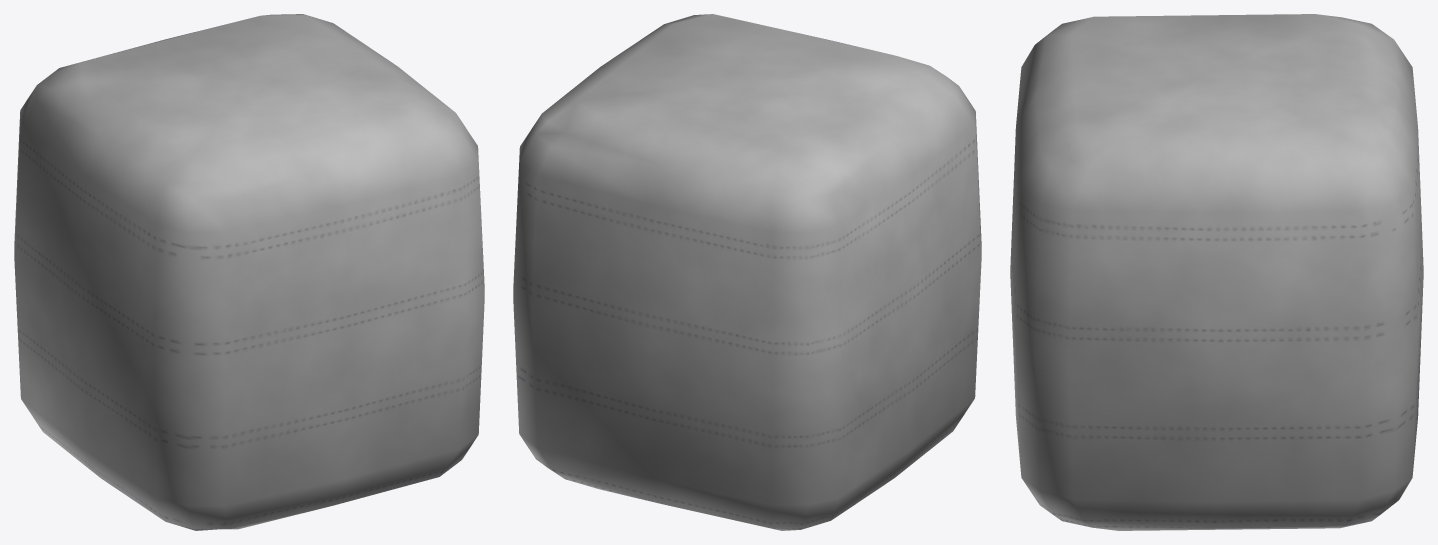
File: LeftUpperArm_C1.fbx
3 views of the same model, side by side, from view 1: azimuth 30°, elevation 25°; view 2: azimuth 150°, elevation 25°; view 3: azimuth 270°, elevation 25° (orthographic). The views are drawn at different scales.
Parts seen in each view (by area): view 1: Civ_CamperaJean_LeftUpperArm_C1; view 2: Civ_CamperaJean_LeftUpperArm_C1; view 3: Civ_CamperaJean_LeftUpperArm_C1.
Boxes of the visible parts, box(x1,y1,x2,y2) form: Civ_CamperaJean_LeftUpperArm_C1: box(14, 14, 484, 530); Civ_CamperaJean_LeftUpperArm_C1: box(513, 14, 981, 530); Civ_CamperaJean_LeftUpperArm_C1: box(1010, 14, 1423, 530).
Bounding box in the file's own units: 1.22 × 1.31 × 1.22.
